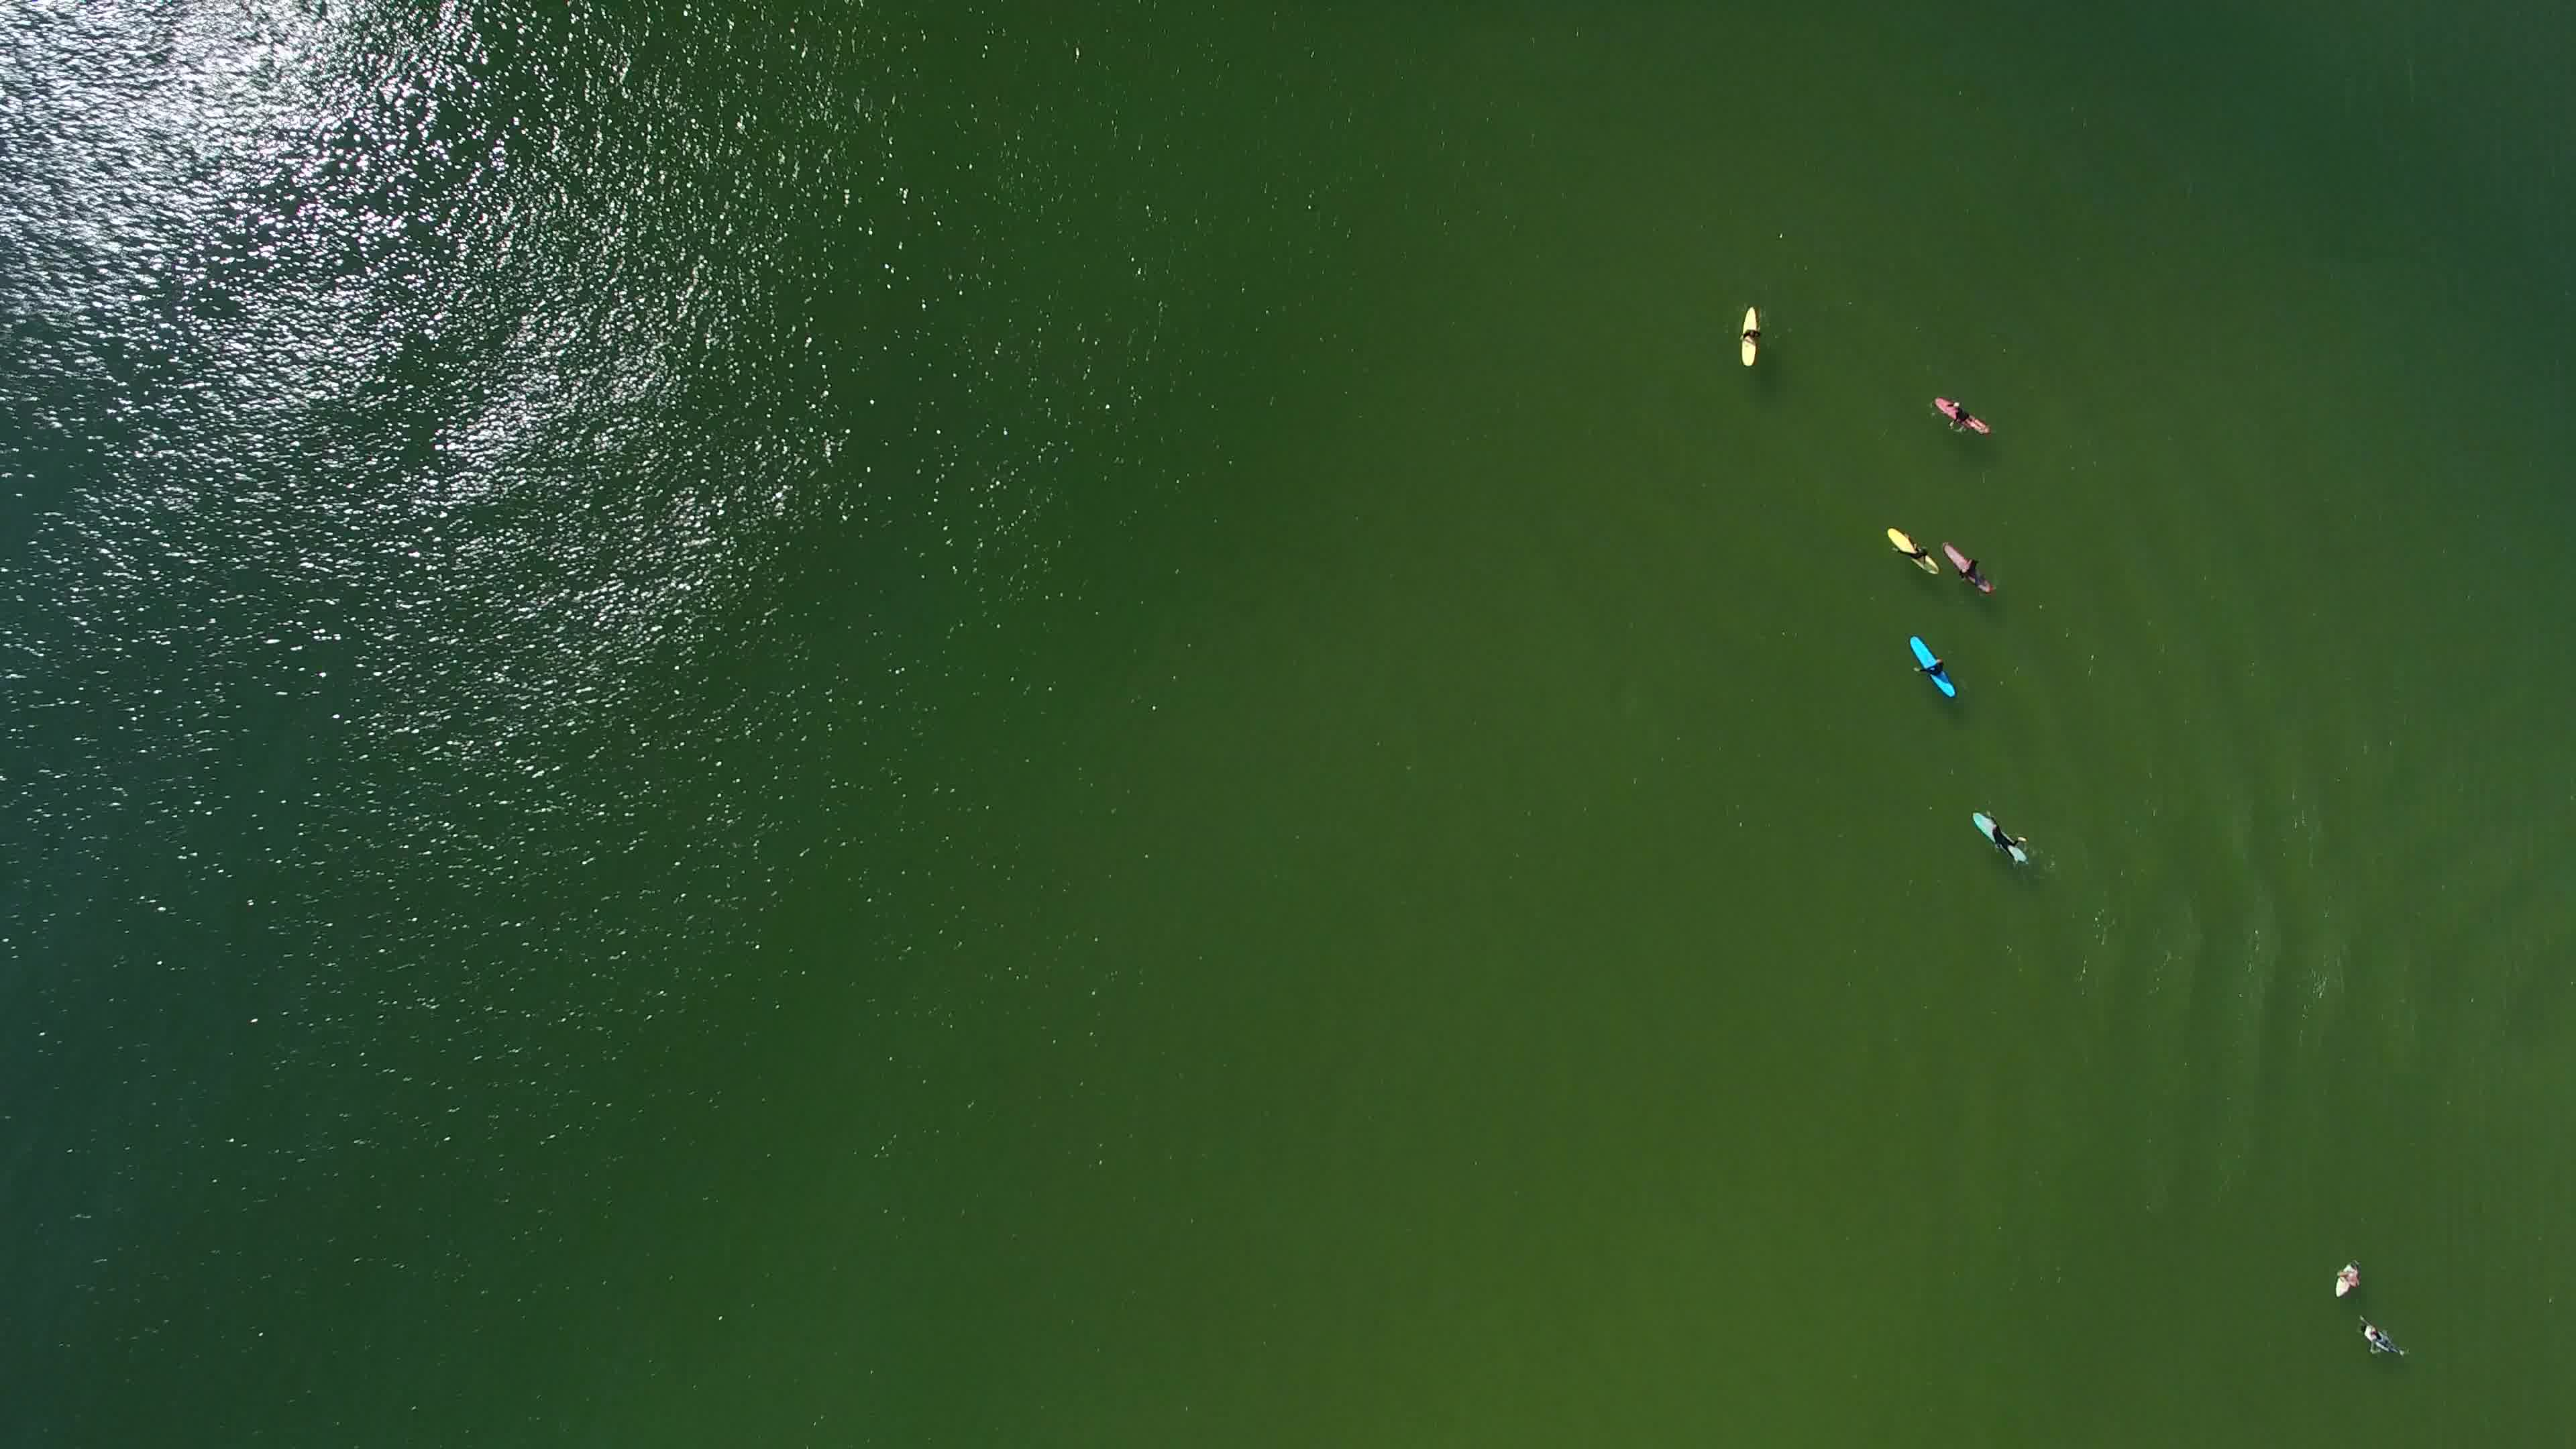surfer: (1895, 623, 1967, 708), (1966, 801, 2036, 872), (1927, 389, 1999, 444), (1943, 533, 2001, 600), (1879, 524, 1946, 575), (1732, 299, 1769, 377), (2351, 1322, 2408, 1364), (2328, 1253, 2367, 1306)
